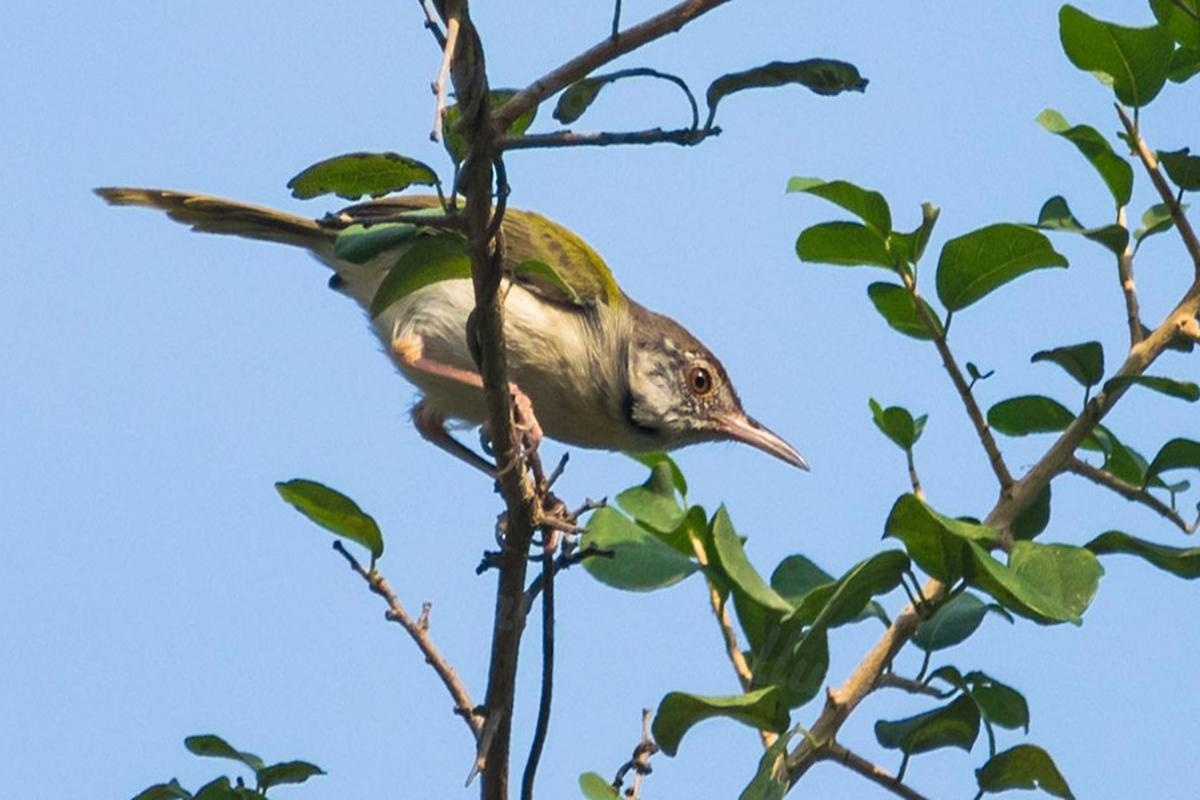tailorbird: (123, 150, 833, 518)
